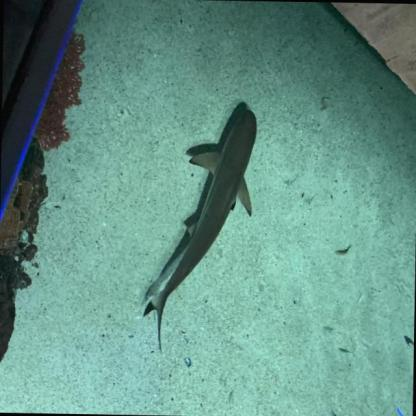shark: (143, 106, 257, 356)
